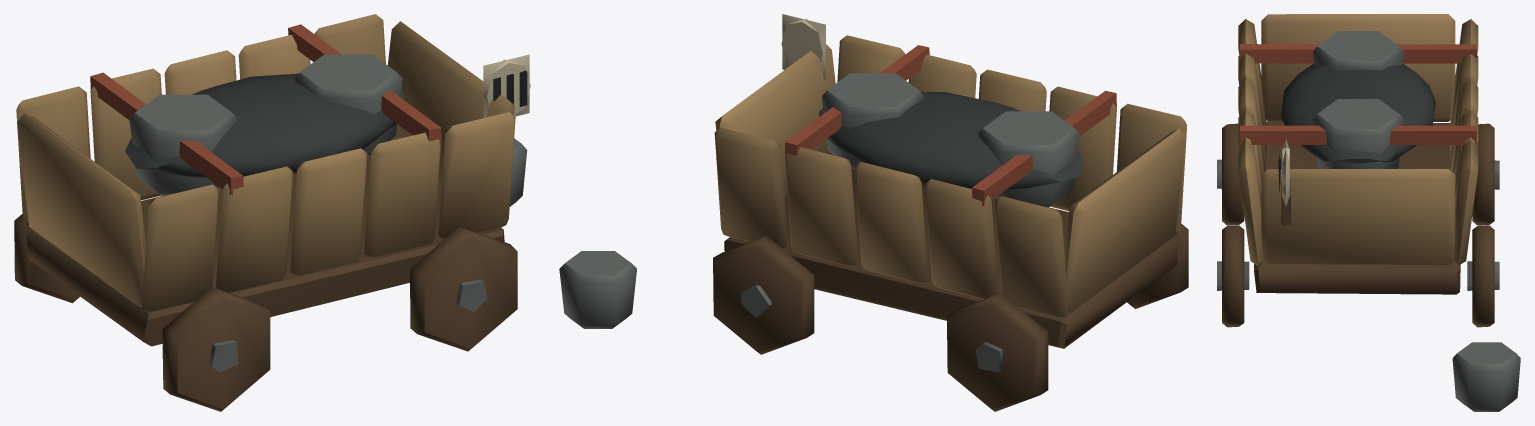
Rendered from tin_cart_a_lod1.glb.
3 views of the same model, side by side, from view 1: azimuth 30°, elevation 25°; view 2: azimuth 150°, elevation 25°; view 3: azimuth 270°, elevation 25° (orthographic). The views are drawn at different scales.
Parts seen in each view (by area): view 1: Surface.001; view 2: Surface.001; view 3: Surface.001.
Part boxes in pixels (x1,y1,x2,y2): Surface.001: (14,14,530,411); Surface.001: (559,14,1188,411); Surface.001: (1217,14,1520,411).
Size of the model in its own units: 3.17 by 1.47 by 1.89.
